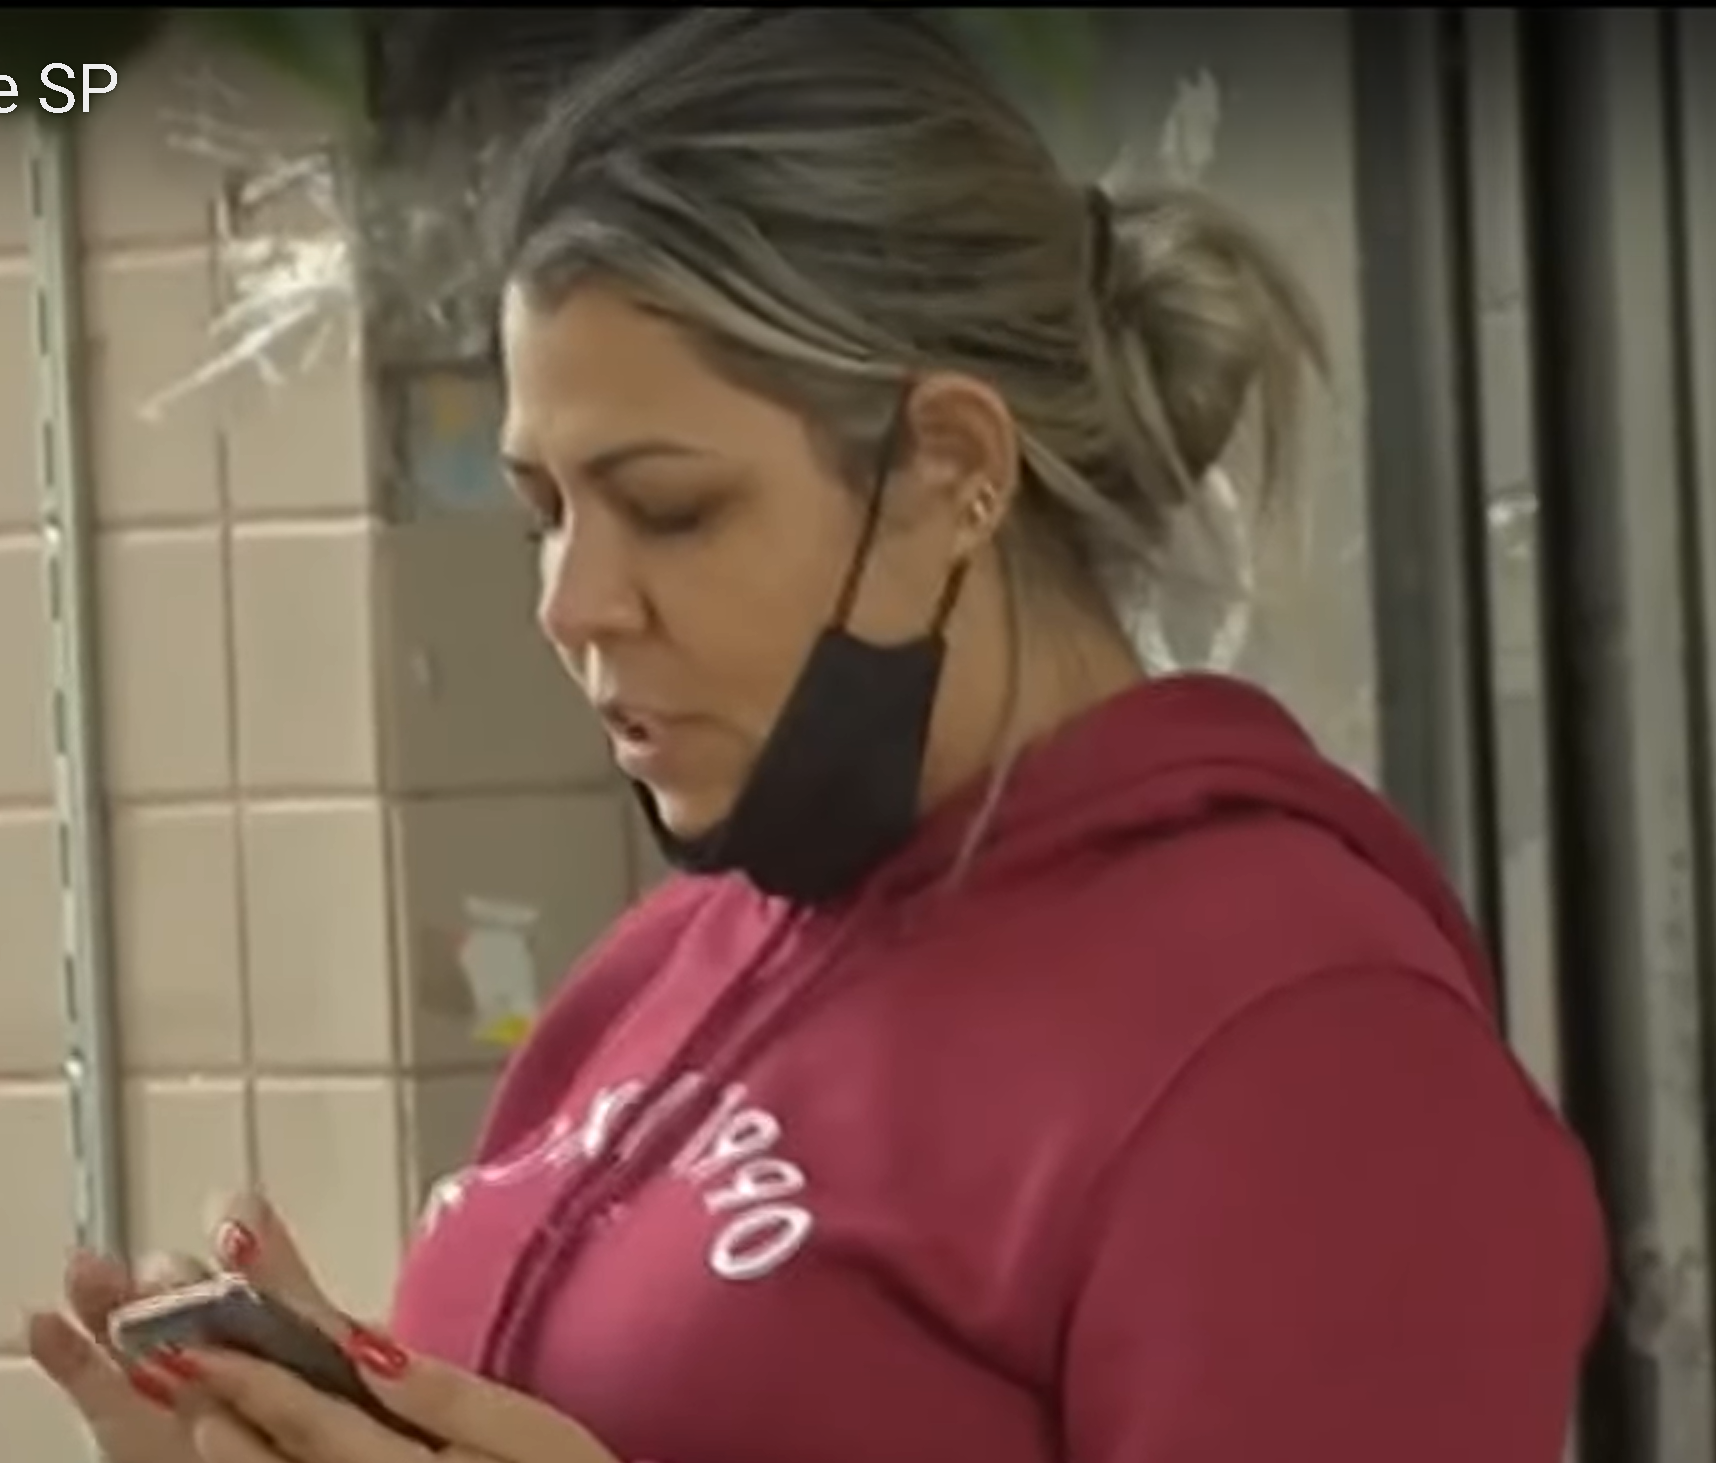mask_weared_incorrect: (468, 272, 1073, 895)
